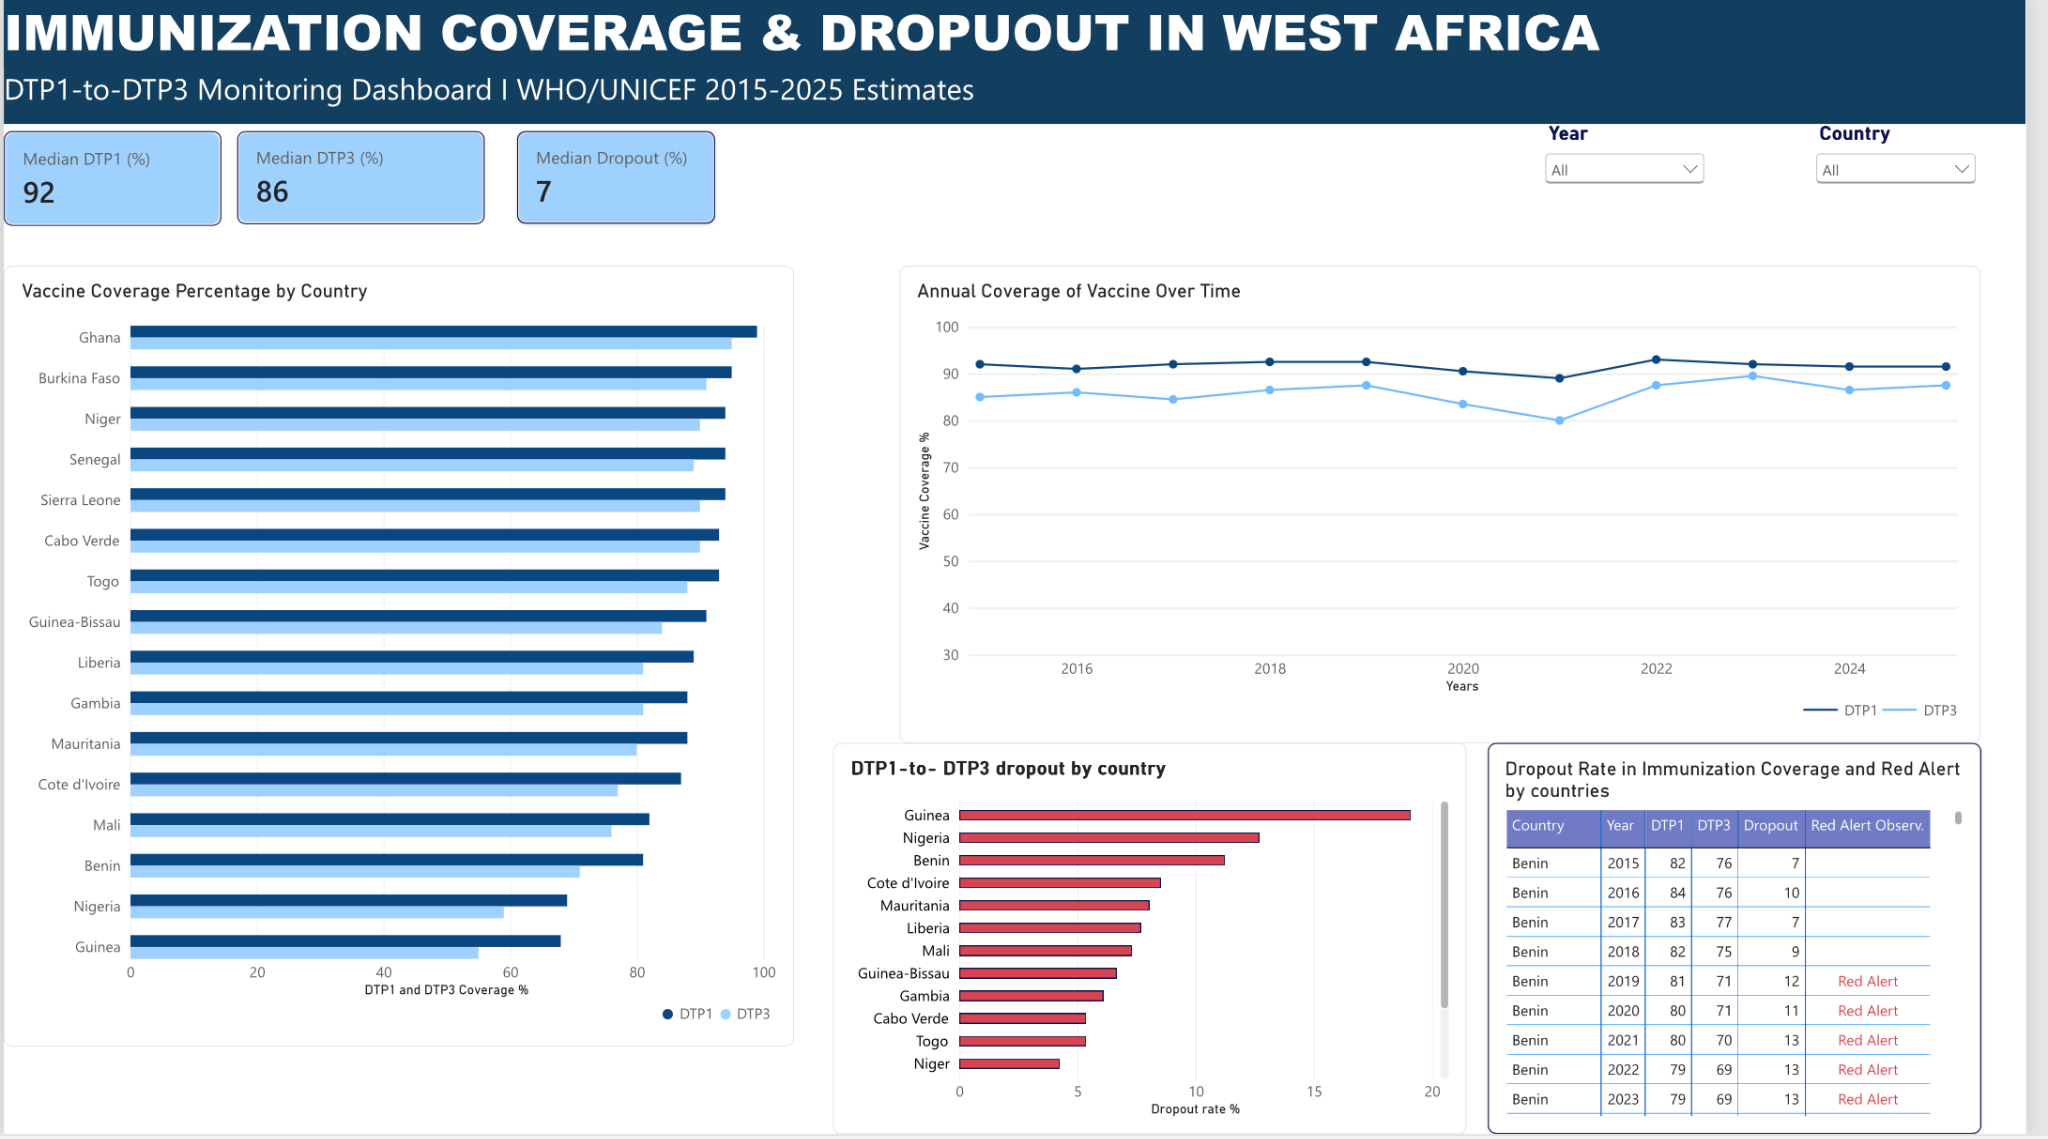

The dashboard page shown, as its layout file describes it:
{"tool":"powerbi","page":{"name":"Page 1","canvas":[1920,1080],"ordinal":0},"visuals":[{"type":"lineChart","title":"Annual Coverage of Vaccine Over Time","fields":{"Category":["West Africa.Period"],"Y":["Median(West Africa.DTP1)","Median(West Africa.DTP3)"]},"box":[850,255,1026.7,453.3],"z":0},{"type":"shape","title":"  IMMUNIZATION COVERAGE & DROPUOUT IN WEST AFRICA","box":[0,0,1919.4,128.4],"z":1},{"type":"slicer","title":"Year","fields":{"Values":["West Africa.Year"]},"box":[1458.3,121.7,161,86.7],"z":2},{"type":"cardVisual","fields":{"Data":["Median(West Africa.Median DTP1)"]},"box":[0,128.3,206.7,90],"z":8},{"type":"slicer","fields":{"Values":["West Africa.Location"]},"box":[1715,121.7,161.7,73.3],"z":9},{"type":"cardVisual","fields":{"Data":["Median(West Africa.Median DTP3)"]},"box":[221.7,128.3,235,88.3],"z":10},{"type":"cardVisual","fields":{"Data":["Median(West Africa.Dropout %)"]},"box":[486.6,128.4,188.1,88.1],"z":11},{"type":"clusteredBarChart","title":"DTP1-to- DTP3  dropout by country","fields":{"Category":["West Africa.Location"],"Y":["Median(West Africa.Dropout)"]},"box":[786.7,708.3,601.7,371.7],"z":14},{"type":"tableEx","title":"Dropout Rate in  Immunization Coverage and Red Alert by countries ","fields":{"Values":["West Africa.Country","West Africa.Year","West Africa.DTP1","West Africa.DTP3","West Africa.Dropout","West Africa.Red Alert Observ."]},"box":[1408.3,708.3,468.3,371.7],"z":15},{"type":"clusteredBarChart","title":"Vaccine Coverage Percentage  by Country","fields":{"Category":["West Africa.Country"],"Y":["Median(West Africa.DTP1)","Median(West Africa.DTP3)"]},"box":[0,255,750,741.7],"z":16}]}

Visuals, with their boxes in screenshot pixels (x1, y1, x2, y2), scaled from the page's 1920x1080 canvas onto the 2048x1139 screenshot:
"Annual Coverage of Vaccine Over Time" lineChart: x1=907 y1=269 x2=2002 y2=747
"  IMMUNIZATION COVERAGE & DROPUOUT IN WEST AFRICA" shape: x1=0 y1=0 x2=2047 y2=135
"Year" slicer: x1=1556 y1=128 x2=1727 y2=220
cardVisual - Median(West Africa.Median DTP1): x1=0 y1=135 x2=220 y2=230
slicer - West Africa.Location: x1=1829 y1=128 x2=2002 y2=206
cardVisual - Median(West Africa.Median DTP3): x1=236 y1=135 x2=487 y2=228
cardVisual - Median(West Africa.Dropout %): x1=519 y1=135 x2=720 y2=228
"DTP1-to- DTP3  dropout by country" clusteredBarChart: x1=839 y1=747 x2=1481 y2=1138
"Dropout Rate in  Immunization Coverage and Red Alert by countries " tableEx: x1=1502 y1=747 x2=2002 y2=1138
"Vaccine Coverage Percentage  by Country" clusteredBarChart: x1=0 y1=269 x2=800 y2=1051
